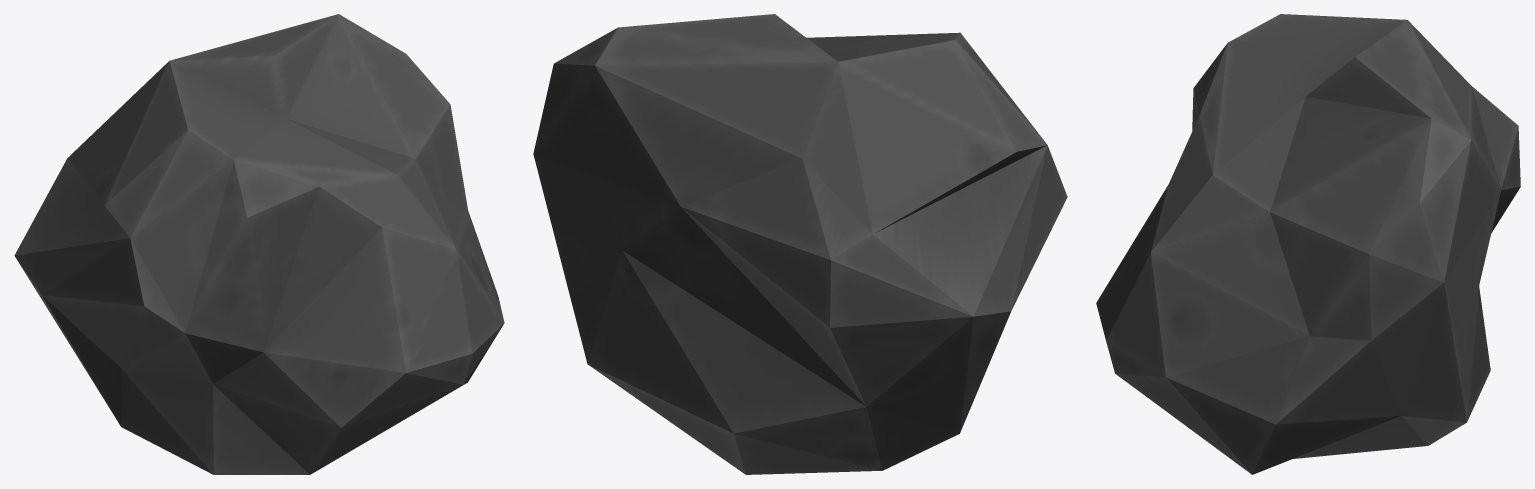
The model's file is rock_0.obj.
3 renders of one model, left to right at view 1: azimuth 30°, elevation 25°; view 2: azimuth 150°, elevation 25°; view 3: azimuth 270°, elevation 25°, orthographic. The views are drawn at different scales.
Parts seen in each view (by area): view 1: Asteroids_Mesh; view 2: Asteroids_Mesh; view 3: Asteroids_Mesh.
Boxes of the visible parts, left/top/right/bottom form: Asteroids_Mesh: left=14, top=14, right=504, bottom=474; Asteroids_Mesh: left=533, top=14, right=1067, bottom=474; Asteroids_Mesh: left=1096, top=14, right=1520, bottom=474.
Size of the model in its own units: 1.47 by 1.36 by 1.26.
